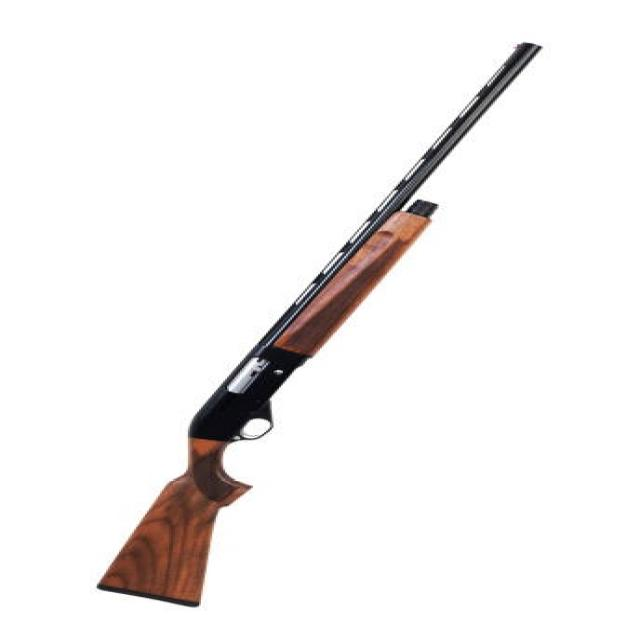rifle: (96, 32, 552, 613)
